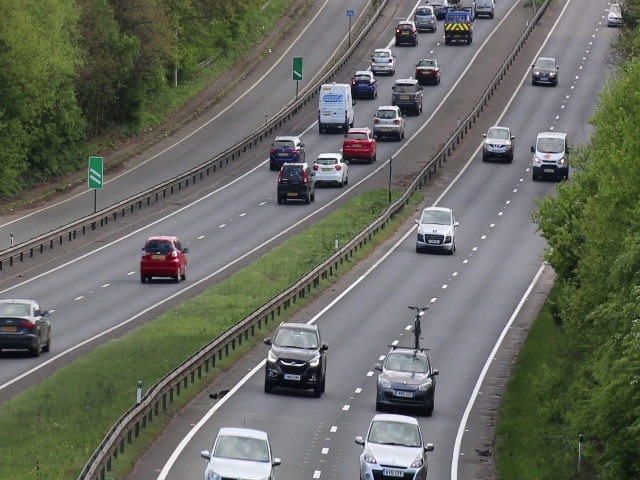car: (263, 322, 325, 397), (357, 416, 429, 480), (376, 348, 437, 415), (204, 425, 274, 480), (1, 296, 52, 356), (138, 235, 187, 286), (413, 204, 456, 255), (531, 130, 569, 181), (317, 83, 354, 130), (277, 162, 316, 204), (482, 126, 515, 162), (313, 151, 348, 184), (391, 78, 424, 112), (342, 128, 377, 160), (444, 9, 474, 44), (372, 105, 404, 135), (529, 57, 559, 87), (271, 135, 302, 162), (368, 46, 395, 76), (394, 20, 419, 47), (414, 58, 441, 82), (353, 71, 376, 99), (417, 6, 436, 35)
